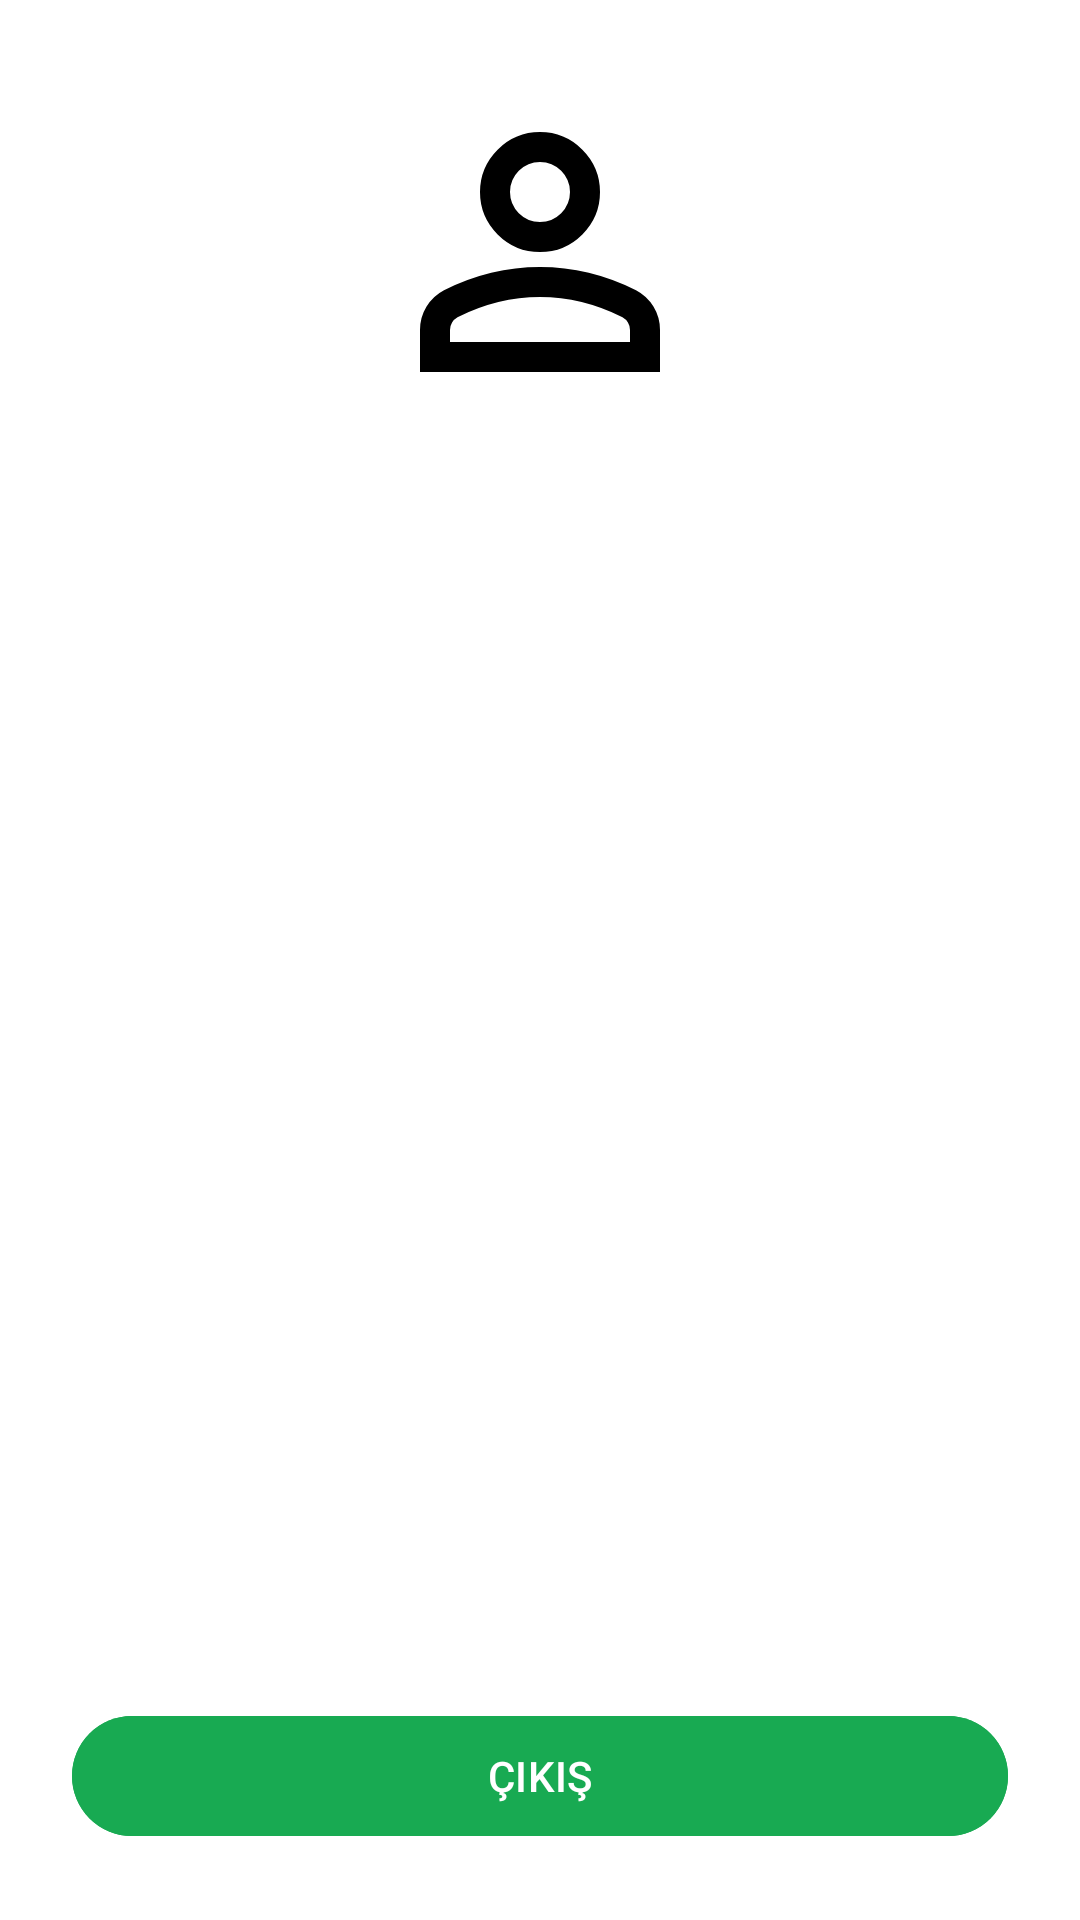

Icon click points for this 1080×1920 phone screenshot, format (x=x, y=y):
Profile Image: (x=540, y=252)
